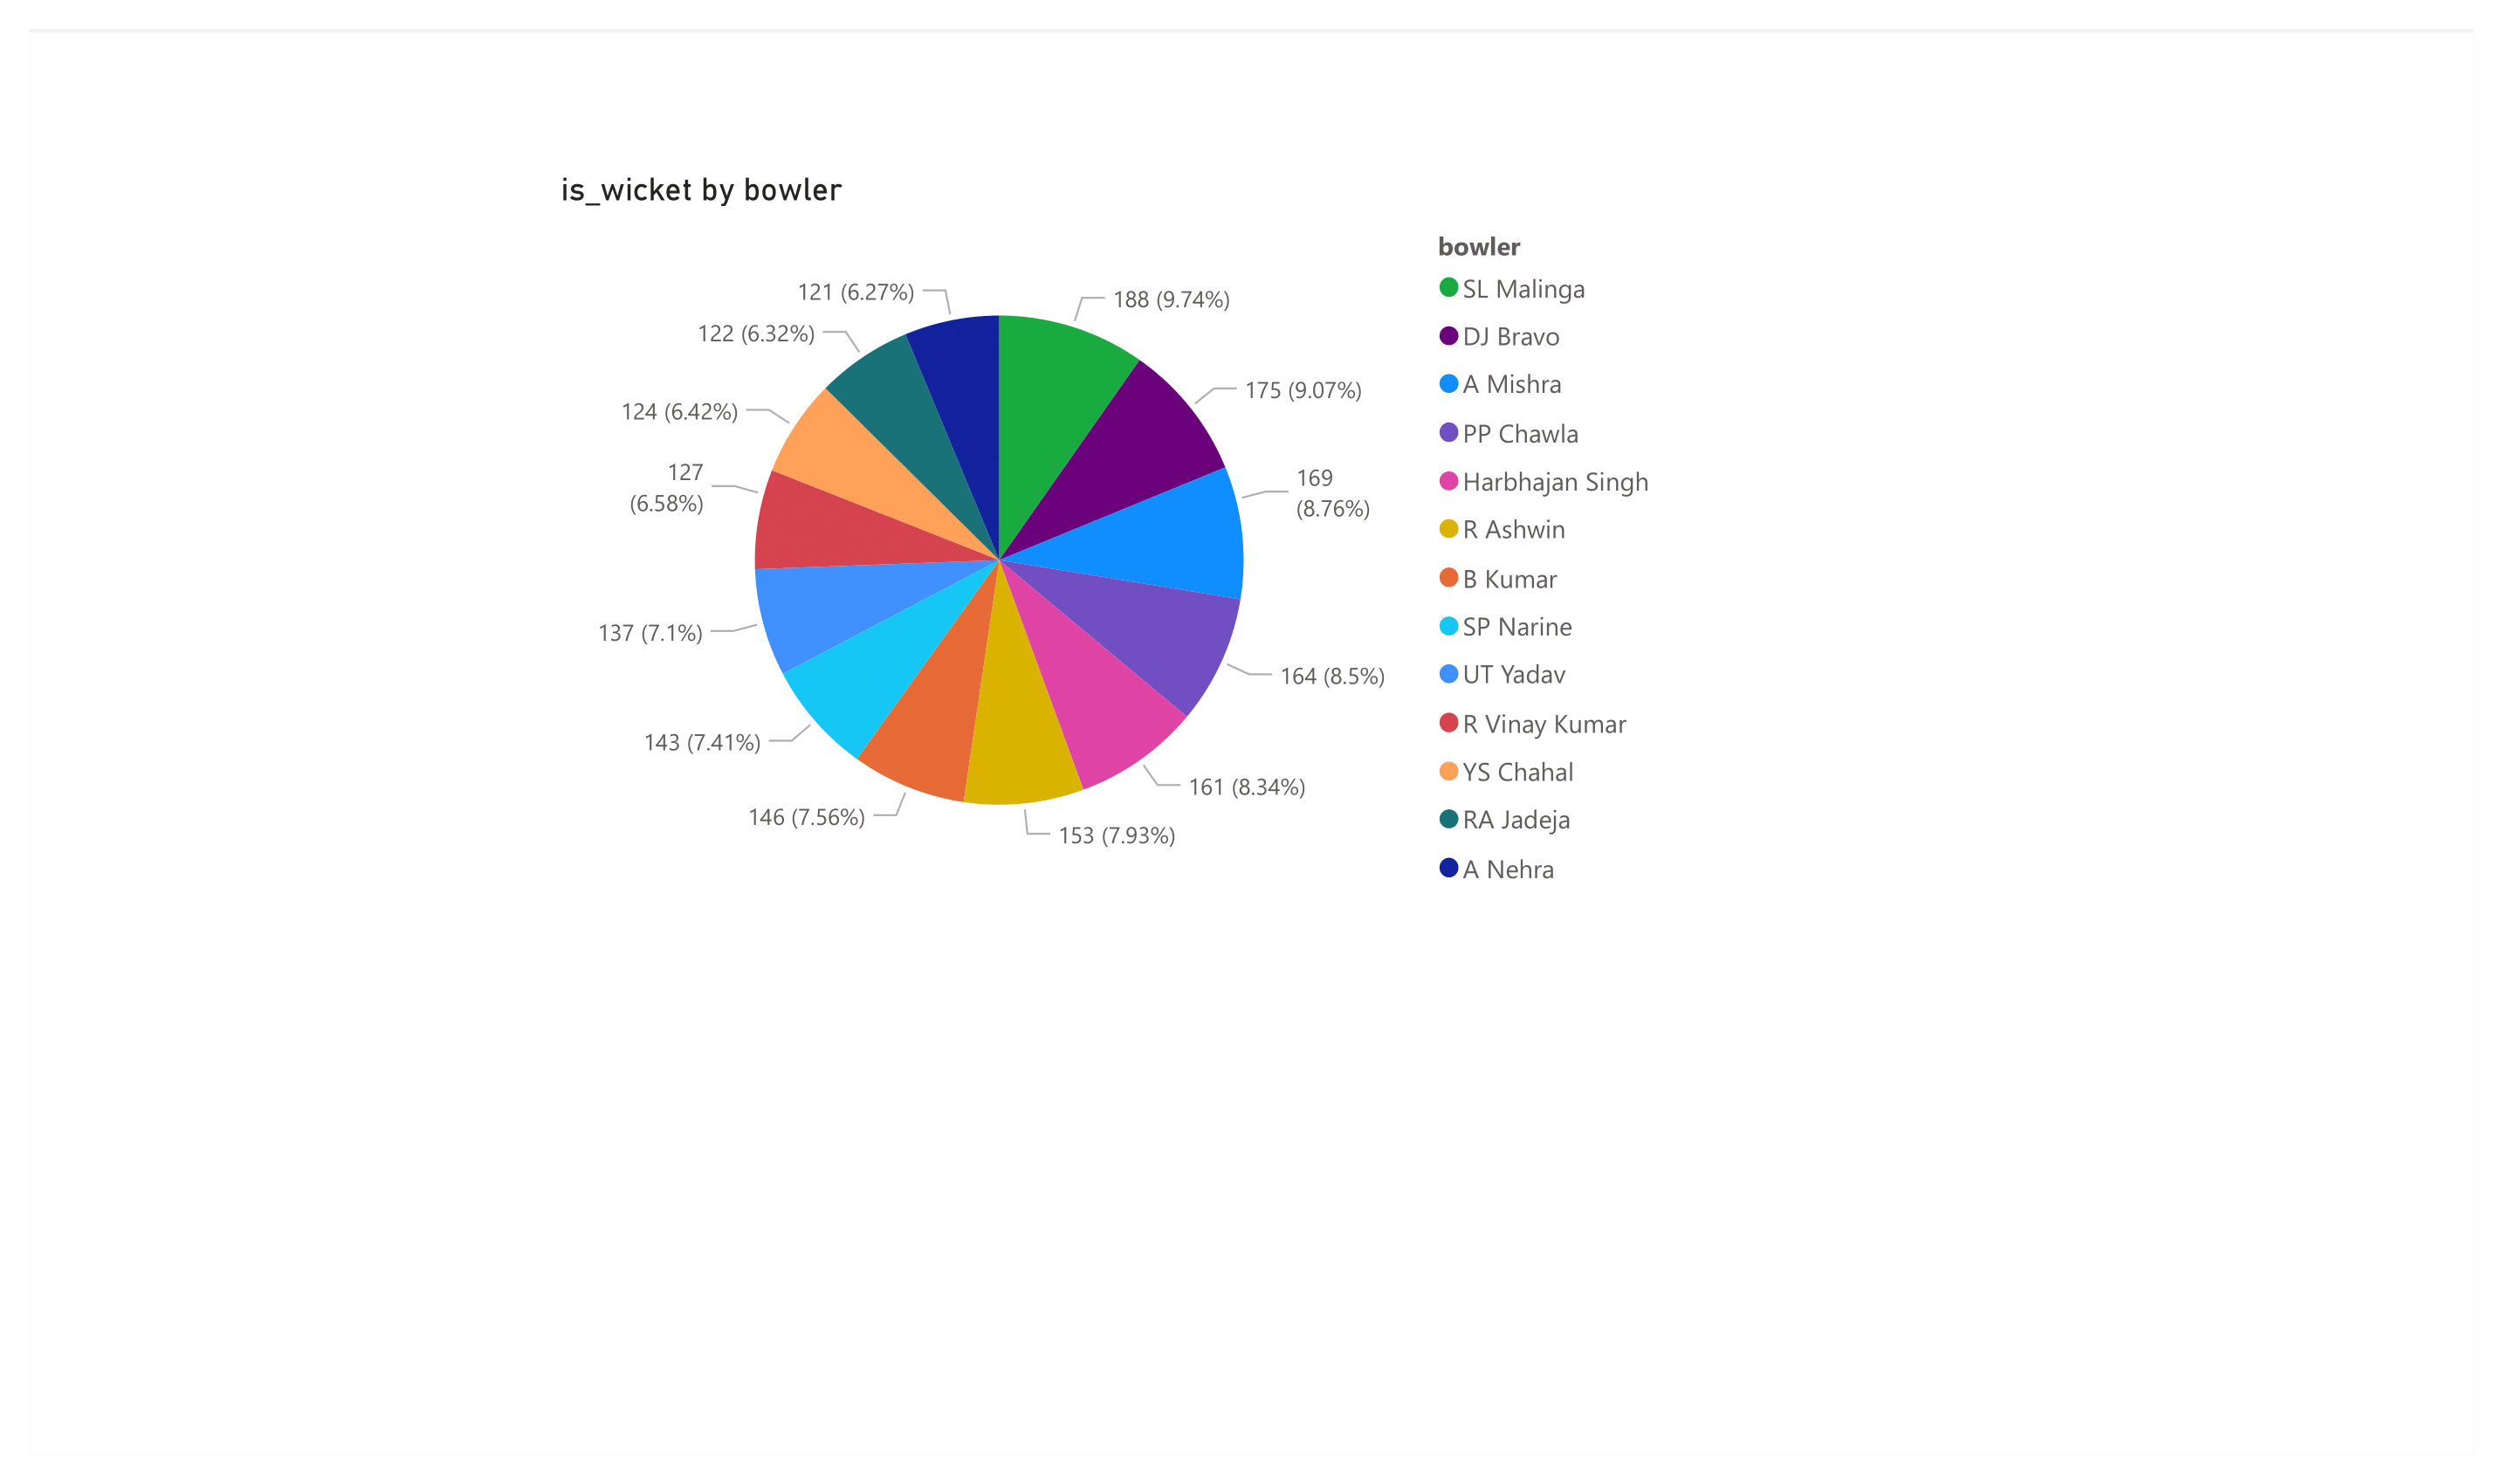

The page's visual inventory and layout, read from the dashboard file:
{"tool":"powerbi","page":{"name":"Page 2","canvas":[1280,720],"ordinal":1},"visuals":[{"type":"pieChart","fields":{"Y":["Sum(IPL Ball-by-Ball 2008-2020.is_wicket)"],"Category":["IPL Ball-by-Ball 2008-2020.bowler"]},"box":[403,150.1,589.3,389.6],"z":0}]}

Visuals, with their boxes on the page's 1280x720 design canvas (x1, y1, x2, y2). These are canvas units, not pixel positions in the 2503x1484 screenshot, which may show the page scaled, cropped or inside an application window:
pieChart - Sum(IPL Ball-by-Ball 2008-2020.is_wicket) x IPL Ball-by-Ball 2008-2020.bowler: BBox(403, 150, 992, 540)
